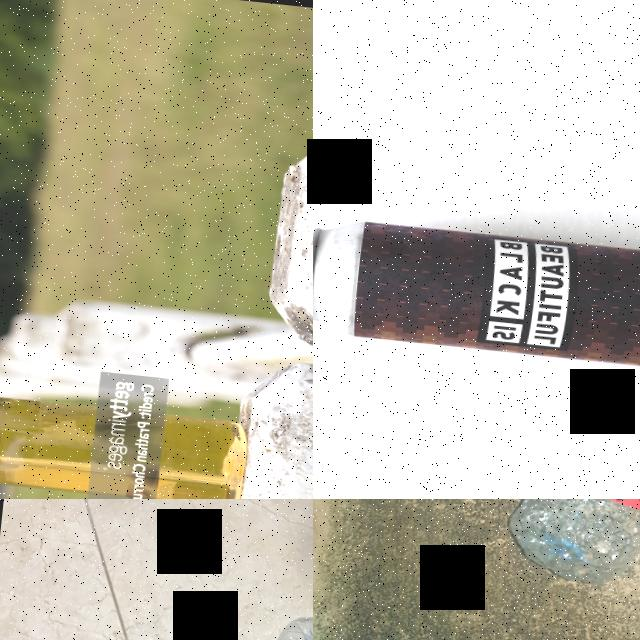bottle: (0, 379, 249, 499), (501, 499, 640, 606)
can: (313, 209, 640, 374)
